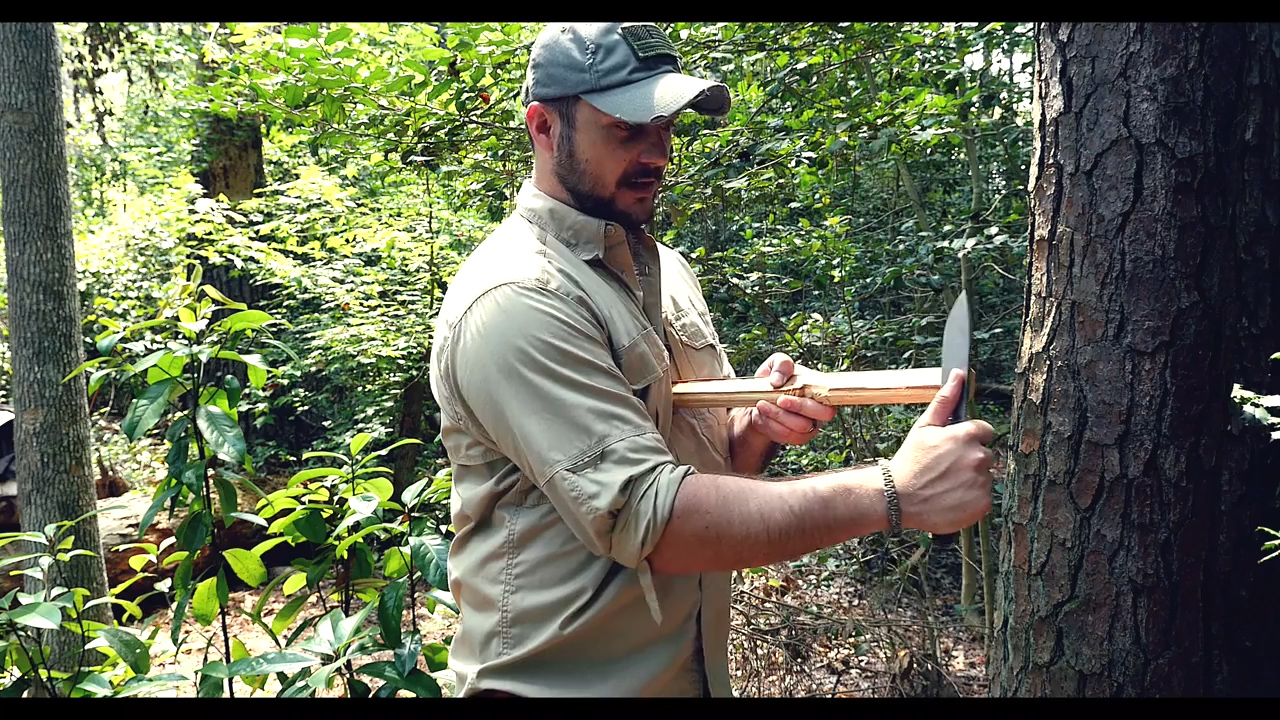knife: (917, 283, 1001, 515)
